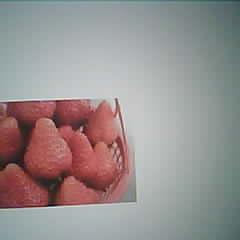straw-ripe: (25, 118, 73, 178)
